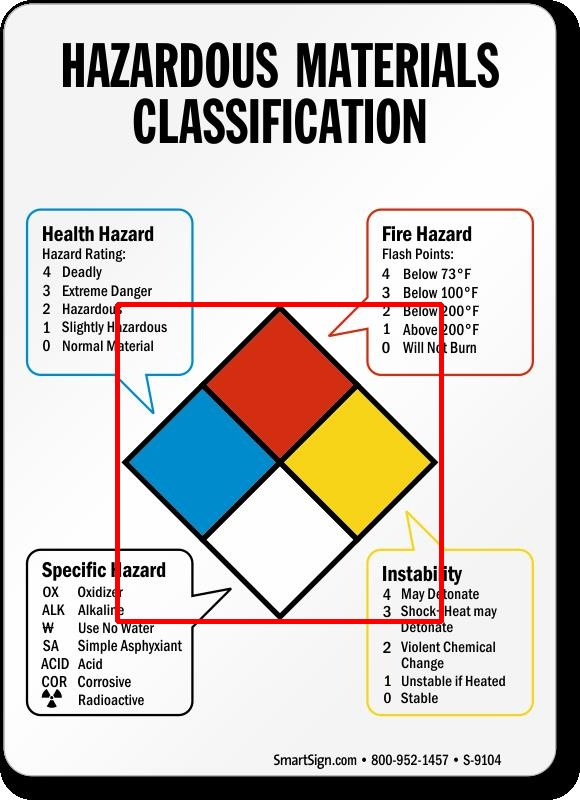nfpa: (117, 304, 441, 621)
